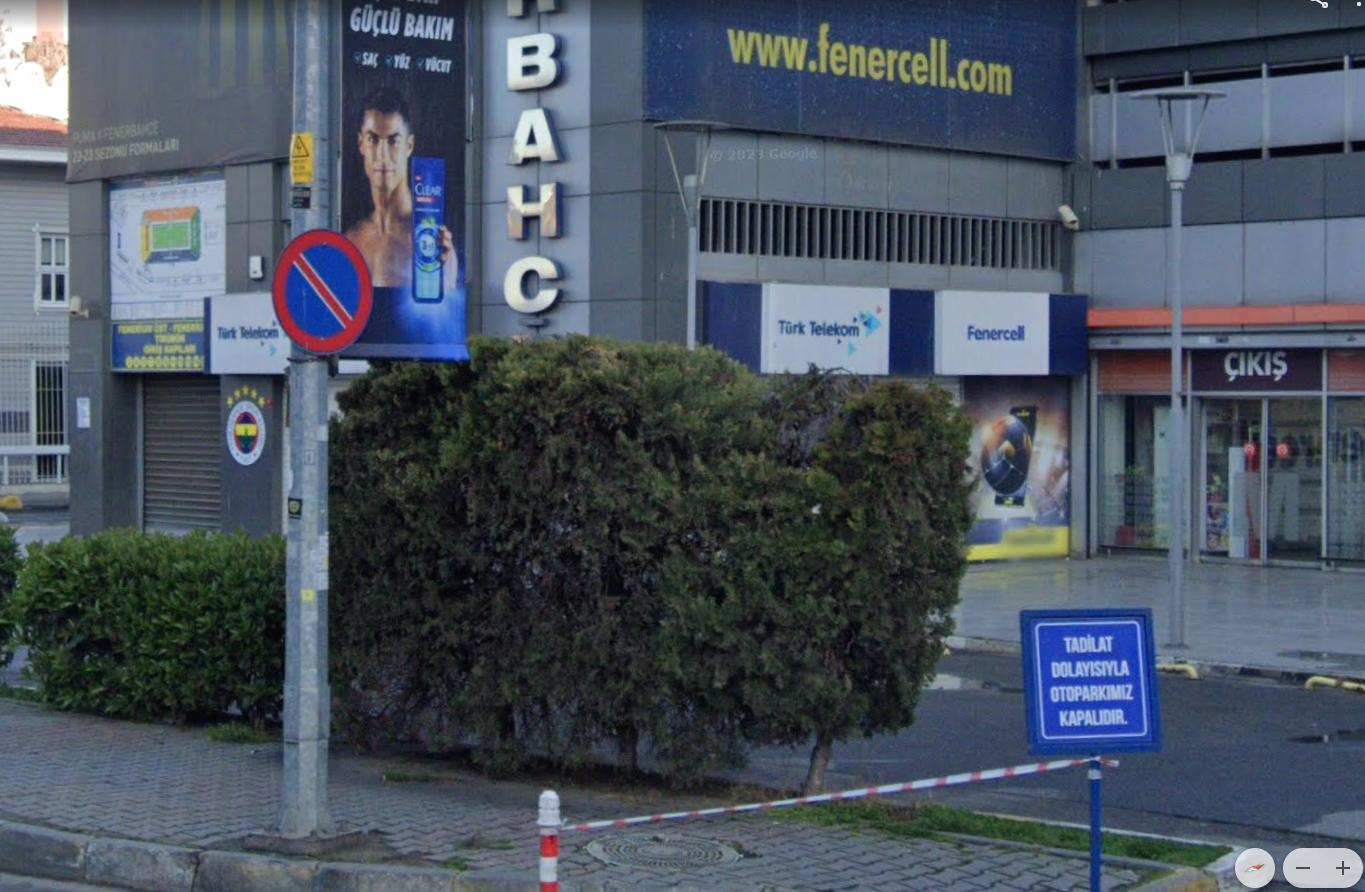nopark: (272, 232, 373, 348)
